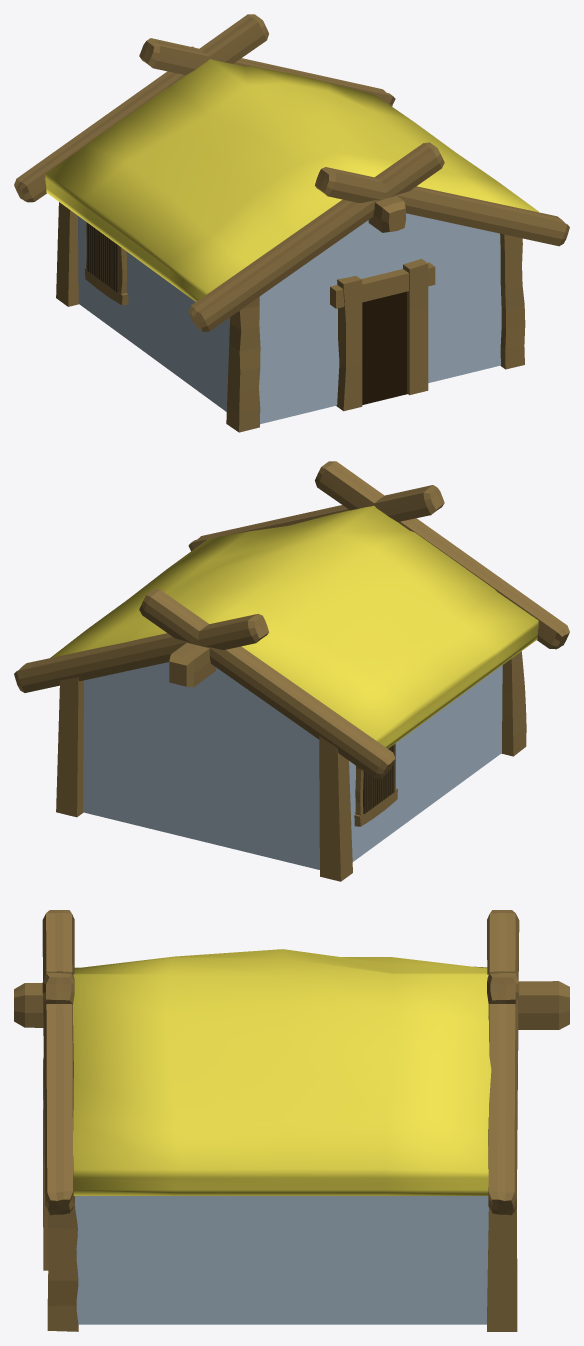
The picture shows the model from 3 angles, top to bottom: view 1: azimuth 30°, elevation 25°; view 2: azimuth 150°, elevation 25°; view 3: azimuth 270°, elevation 25°; orthographic projection. The views are drawn at different scales.
Parts seen in each view (by area): view 1: HouseBeams12.001; view 2: HouseBeams12.001; view 3: HouseBeams12.001.
Part boxes in pixels (x1,y1,x2,y2): HouseBeams12.001: (14, 14, 569, 432); HouseBeams12.001: (14, 461, 569, 881); HouseBeams12.001: (14, 910, 569, 1331).
Bounding box in the file's own units: 6.52 × 3.98 × 6.63.
